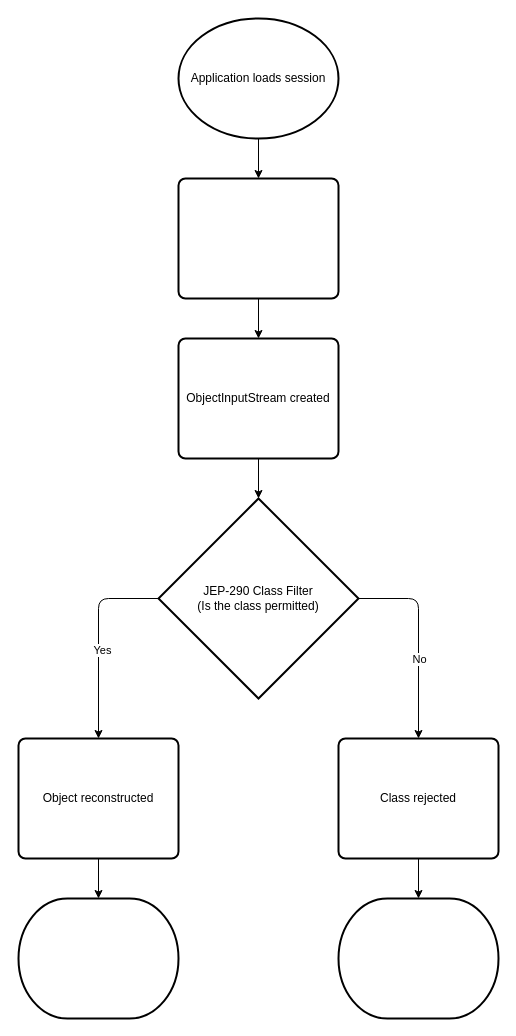
The diagram is 516 pixels wide and 1036 high, and some of its shapes have lost their labels. Here are the shapes that lost their labels. From the top down, the centre of each, then its label:
(x=258, y=238): Session file located
(x=98, y=958): Session object returned
(x=418, y=958): Deserealisation aborted
